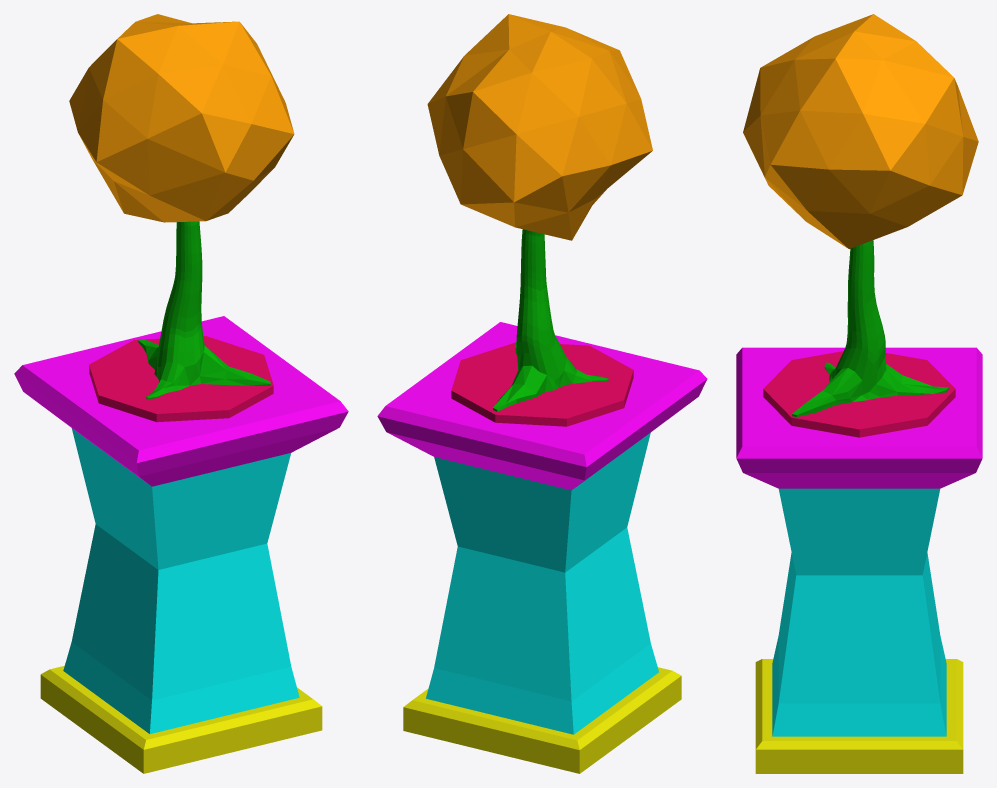
Rendered from STATUE_TREE_MEDIUM.fbx.
3 renders of one model, left to right at view 1: azimuth 30°, elevation 25°; view 2: azimuth 150°, elevation 25°; view 3: azimuth 270°, elevation 25°, orthographic.
Visible parts, largest first — view 1: DECO_TREE_MEDIUM; view 2: DECO_TREE_MEDIUM; view 3: DECO_TREE_MEDIUM.
Boxes of the visible parts, x1,y1,x2,y2 form: DECO_TREE_MEDIUM: (14,14,348,773); DECO_TREE_MEDIUM: (377,14,707,773); DECO_TREE_MEDIUM: (736,14,982,773).
Size of the model in its own units: 54.89 by 171 by 54.89.
